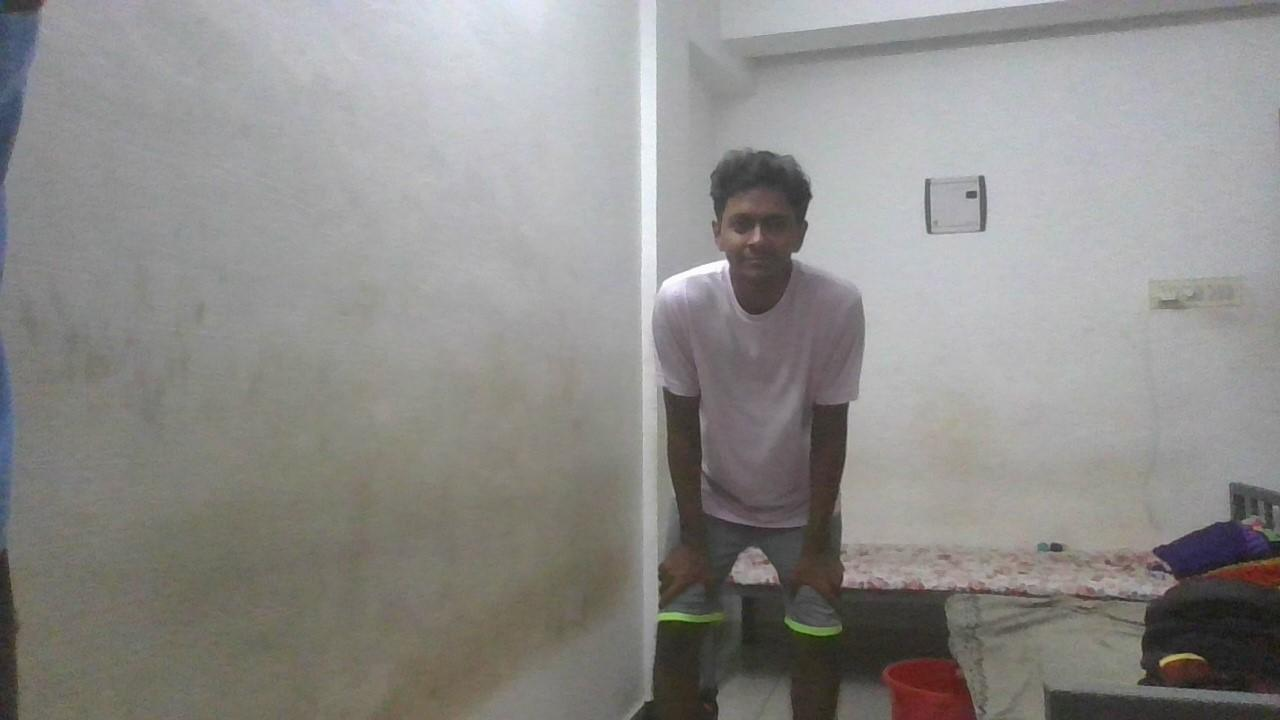nohelmet: (709, 150, 813, 291)
